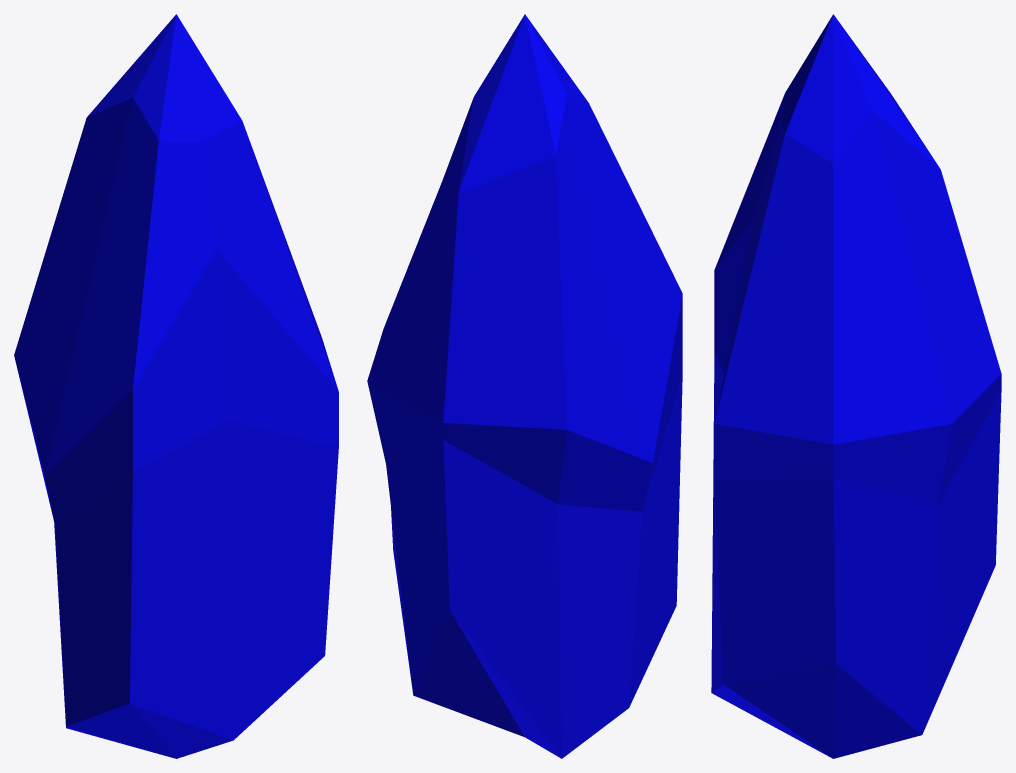
The model's file is Blue_Crystal_01.fbx.
3 views of the same model, side by side, from view 1: azimuth 30°, elevation 25°; view 2: azimuth 150°, elevation 25°; view 3: azimuth 270°, elevation 25° (orthographic). The views are drawn at different scales.
Visible parts, largest first — view 1: Blue_Crystal_01; view 2: Blue_Crystal_01; view 3: Blue_Crystal_01.
Part boxes in pixels (box(x1,y1,x2,y2)): Blue_Crystal_01: box(14, 14, 338, 758); Blue_Crystal_01: box(367, 14, 682, 758); Blue_Crystal_01: box(711, 14, 1001, 758).
Size of the model in its own units: 3.19 by 8.19 by 2.89.
